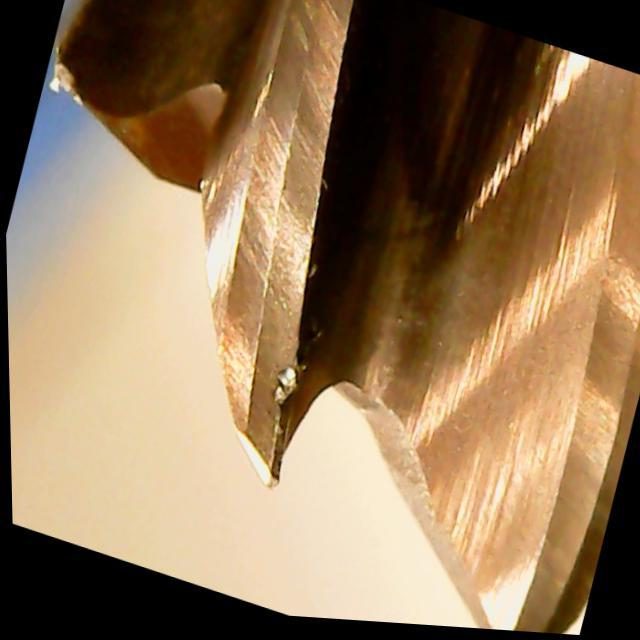Tool-wear-class-1: (161, 197, 359, 508)
